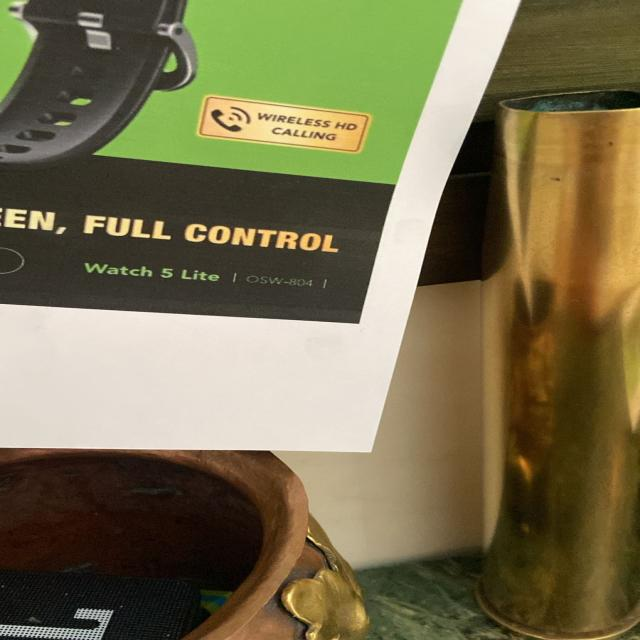Watch 5 Lite OSW-804: (73, 256, 339, 294)
